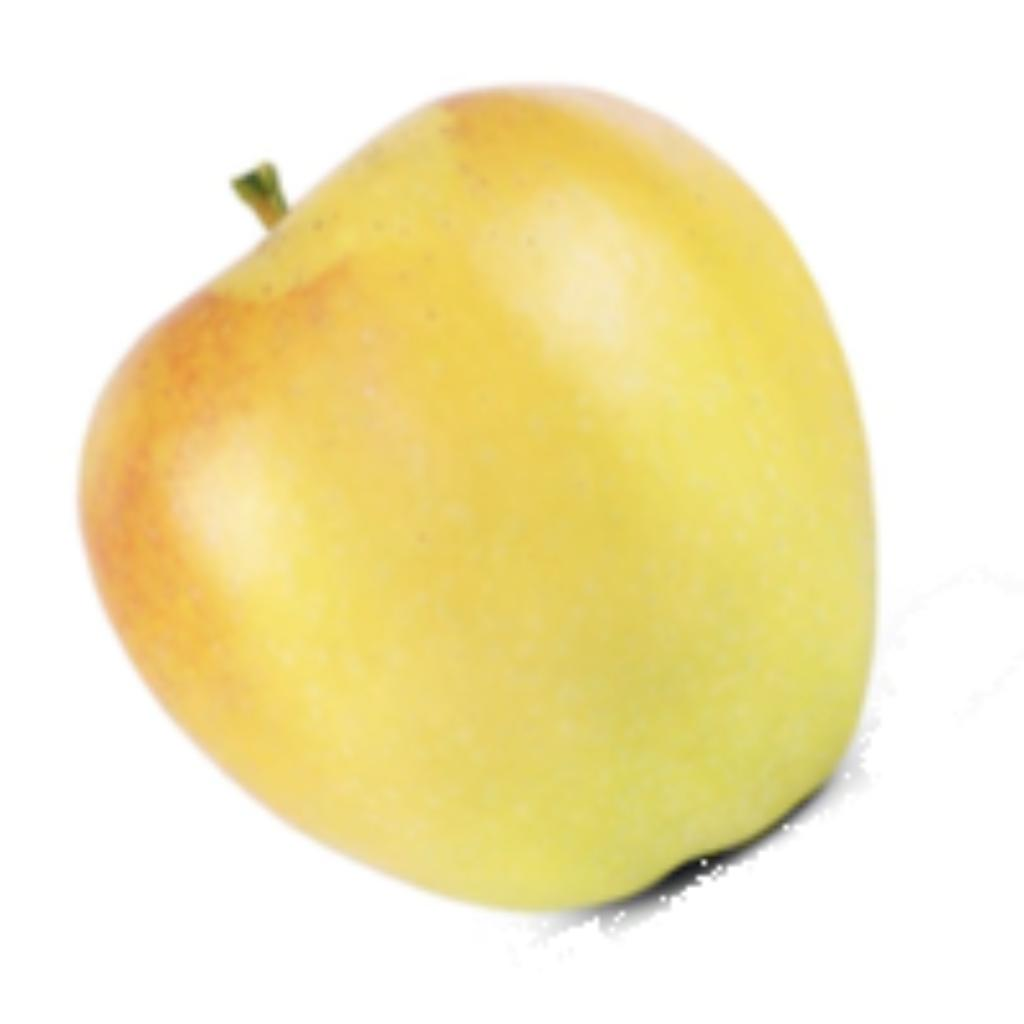apple: (67, 77, 906, 947)
